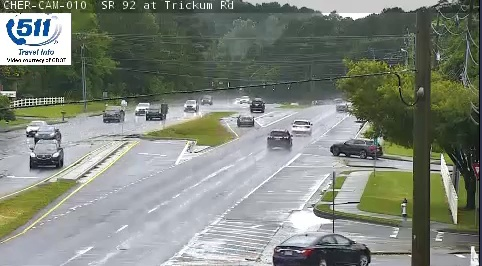car: (267, 129, 291, 147), (292, 119, 311, 134), (237, 114, 254, 126)
